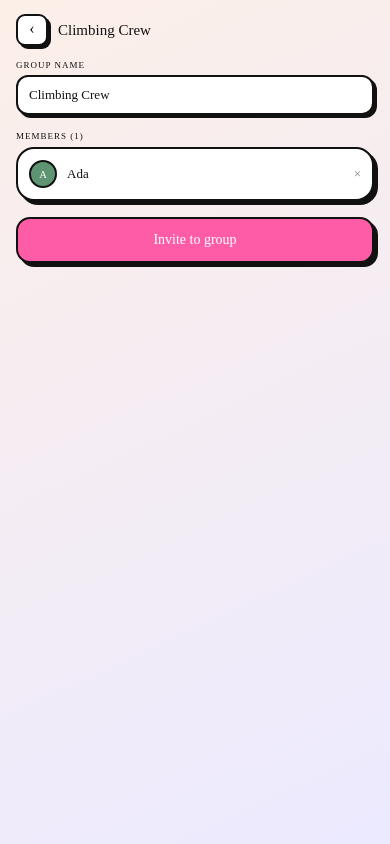
Test: GroupDetail › opening 'Invite to group' shows the join code and link from inviteByGroup
The width and height of the screenshot is (390, 844).
Click the text "Invite to group". click: [195, 240]
box: [153,232,237,248]
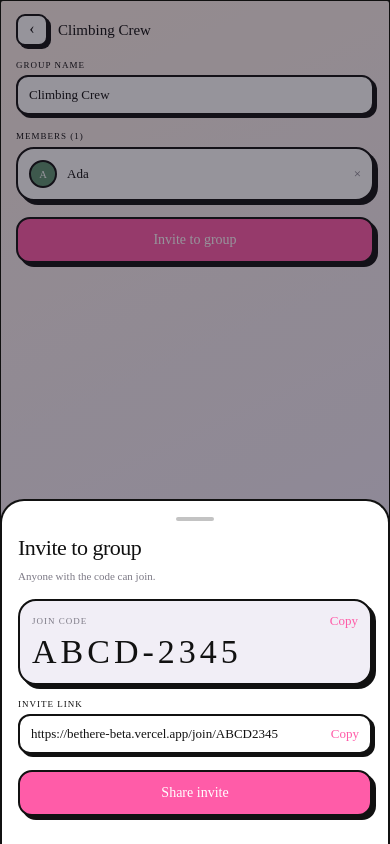
Expected: the text "ABCD-2345" is shown, [32,633,242,670]
Expected: the text "Join code" is shown, [32,616,87,626]
Expected: the field showing "https://bethere-beta.vercel.app/join/ABCD2345" is shown, [31,716,323,752]
